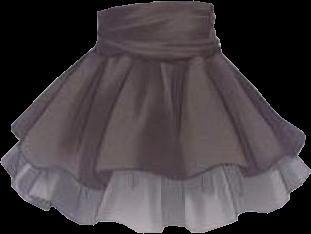Hemline: (1, 161, 310, 233), (9, 125, 306, 191)
Waistline: (92, 46, 221, 63), (96, 0, 212, 13)
